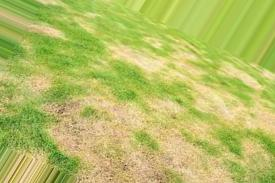patch: (50, 105, 121, 162), (133, 128, 197, 177), (118, 47, 157, 73), (202, 91, 239, 116), (229, 66, 257, 88), (175, 56, 197, 80)
